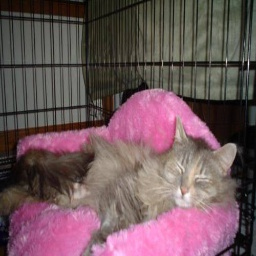cat: (6, 129, 240, 233)
